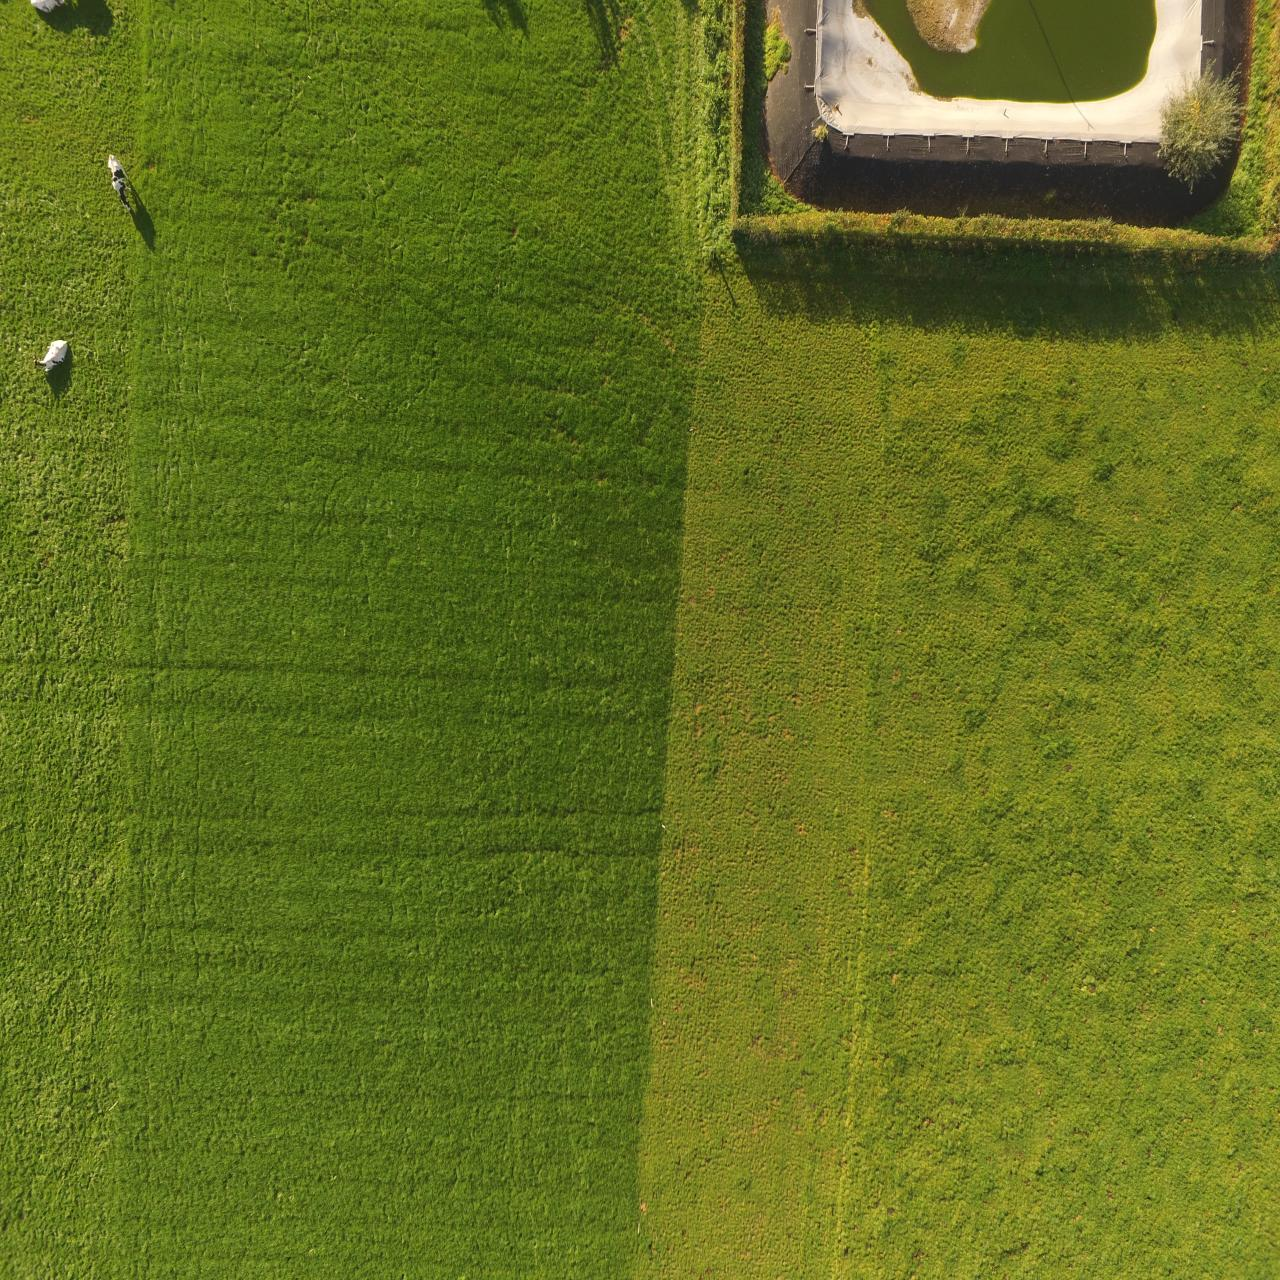cow: (96, 149, 137, 206), (35, 327, 77, 377)
